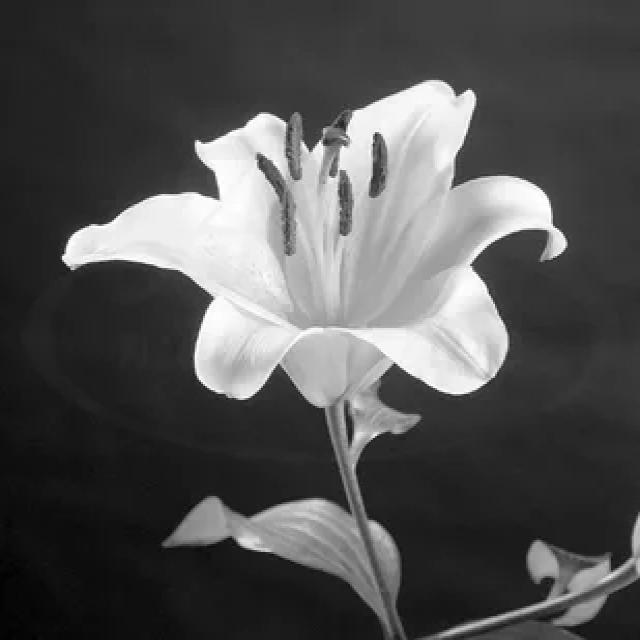lily: (45, 58, 596, 413)
